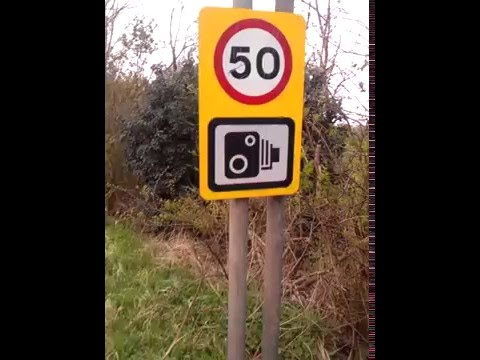Speed_limit_50km: (211, 19, 295, 104)
